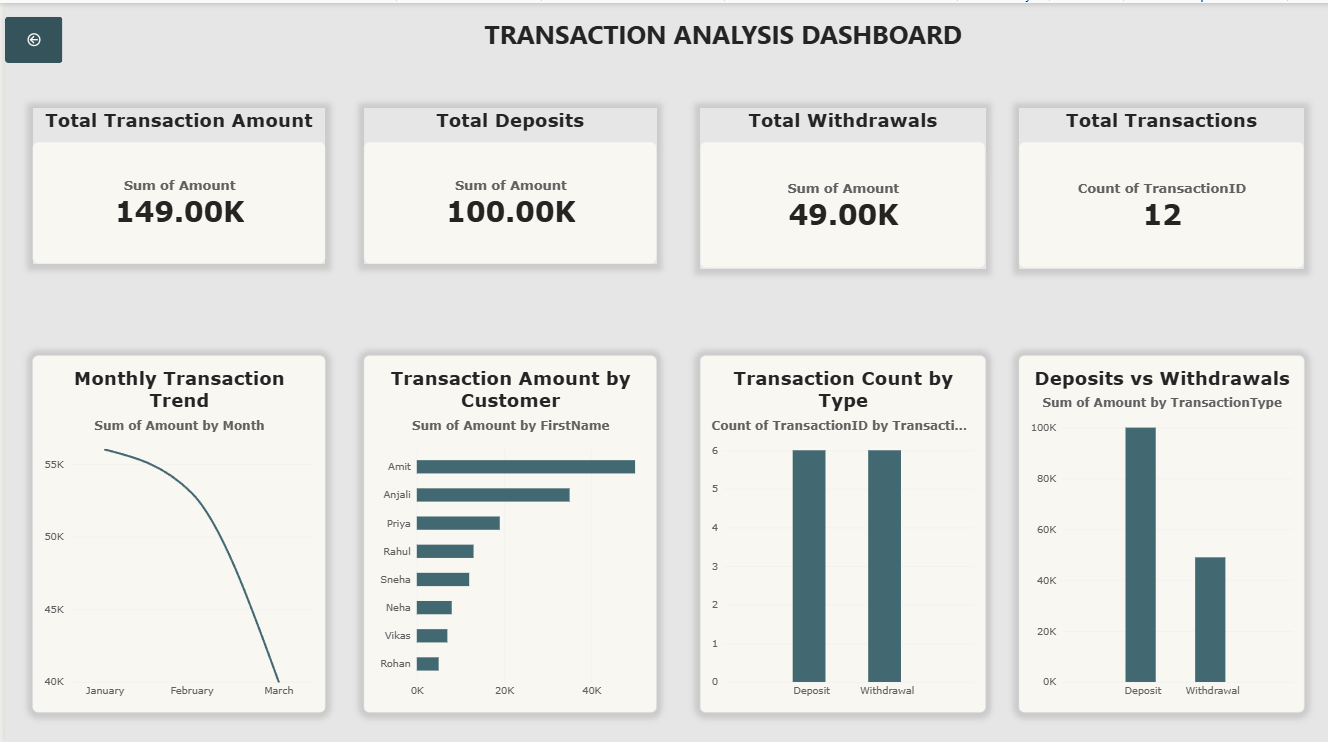

What the dashboard file says about the page in this screenshot:
{"tool":"powerbi","page":{"name":"Transaction Analysis","canvas":[1920,1080],"ordinal":2},"visuals":[{"type":"cardVisual","title":"Total Transaction Amount","fields":{"Data":["Sum(bankmanagementsystem transactions.Amount)"]},"box":[39.1,152.3,424,226.4],"z":0},{"type":"cardVisual","title":"Total Transactions","fields":{"Data":["CountNonNull(bankmanagementsystem transactions.TransactionID)"]},"box":[1467.6,152.3,413.7,232.6],"z":1000},{"type":"cardVisual","title":"Total Deposits","fields":{"Data":["Sum(bankmanagementsystem transactions.Amount)"]},"box":[518.7,152.3,424,226.4],"z":2000},{"type":"cardVisual","title":"Total Withdrawals","fields":{"Data":["Sum(bankmanagementsystem transactions.Amount)"]},"box":[1006.5,152.3,413.7,232.6],"z":3000},{"type":"actionButton","box":[0,0,100,40],"z":4000},{"type":"lineChart","title":"Monthly Transaction Trend","fields":{"Y":["Sum(bankmanagementsystem transactions.Amount)"],"Category":["bankmanagementsystem transactions.TransactionDate.Variation.Date Hierarchy.Month"]},"box":[39.1,510.5,424,516.6],"z":5000},{"type":"clusteredColumnChart","title":"Deposits vs Withdrawals","fields":{"Category":["bankmanagementsystem transactions.TransactionType"],"Y":["Sum(bankmanagementsystem transactions.Amount)"]},"box":[1467.6,510.5,413.7,516.6],"z":6000},{"type":"clusteredColumnChart","title":"Transaction Count by Type","fields":{"Category":["bankmanagementsystem transactions.TransactionType"],"Y":["CountNonNull(bankmanagementsystem transactions.TransactionID)"]},"box":[1006.5,510.5,413.7,516.6],"z":7000},{"type":"clusteredBarChart","title":"Transaction Amount by Customer","fields":{"Category":["bankmanagementsystem customers.FirstName"],"Y":["Sum(bankmanagementsystem transactions.Amount)"]},"box":[518.7,510.5,424,516.6],"z":8000},{"type":"textbox","box":[485.8,20.6,1109.4,70],"z":9000}]}

Visuals, with their boxes in screenshot pixels (x1, y1, x2, y2), scaled from the page's 1920x1080 canvas onto the 1328x742 screenshot:
"Total Transaction Amount" cardVisual: x1=27, y1=105, x2=320, y2=260
"Total Transactions" cardVisual: x1=1015, y1=105, x2=1301, y2=264
"Total Deposits" cardVisual: x1=359, y1=105, x2=652, y2=260
"Total Withdrawals" cardVisual: x1=696, y1=105, x2=982, y2=264
actionButton: x1=0, y1=0, x2=69, y2=27
"Monthly Transaction Trend" lineChart: x1=27, y1=351, x2=320, y2=706
"Deposits vs Withdrawals" clusteredColumnChart: x1=1015, y1=351, x2=1301, y2=706
"Transaction Count by Type" clusteredColumnChart: x1=696, y1=351, x2=982, y2=706
"Transaction Amount by Customer" clusteredBarChart: x1=359, y1=351, x2=652, y2=706
textbox: x1=336, y1=14, x2=1103, y2=62
